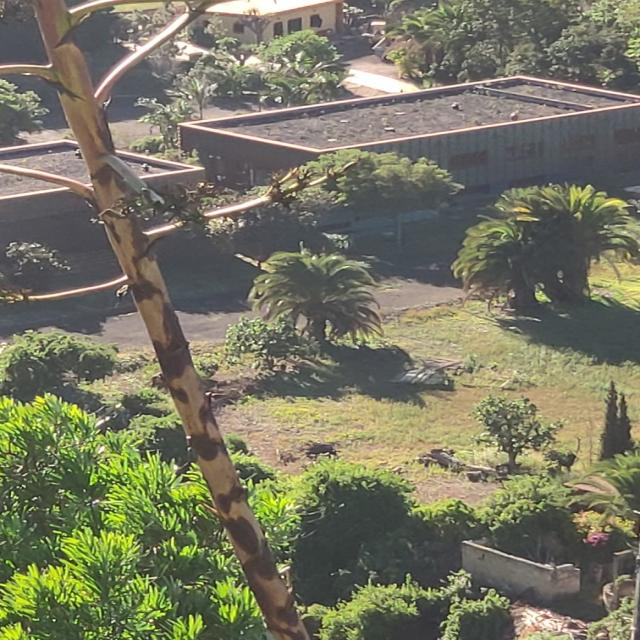Palm-Trees: (250, 252, 384, 348), (459, 222, 553, 314)
